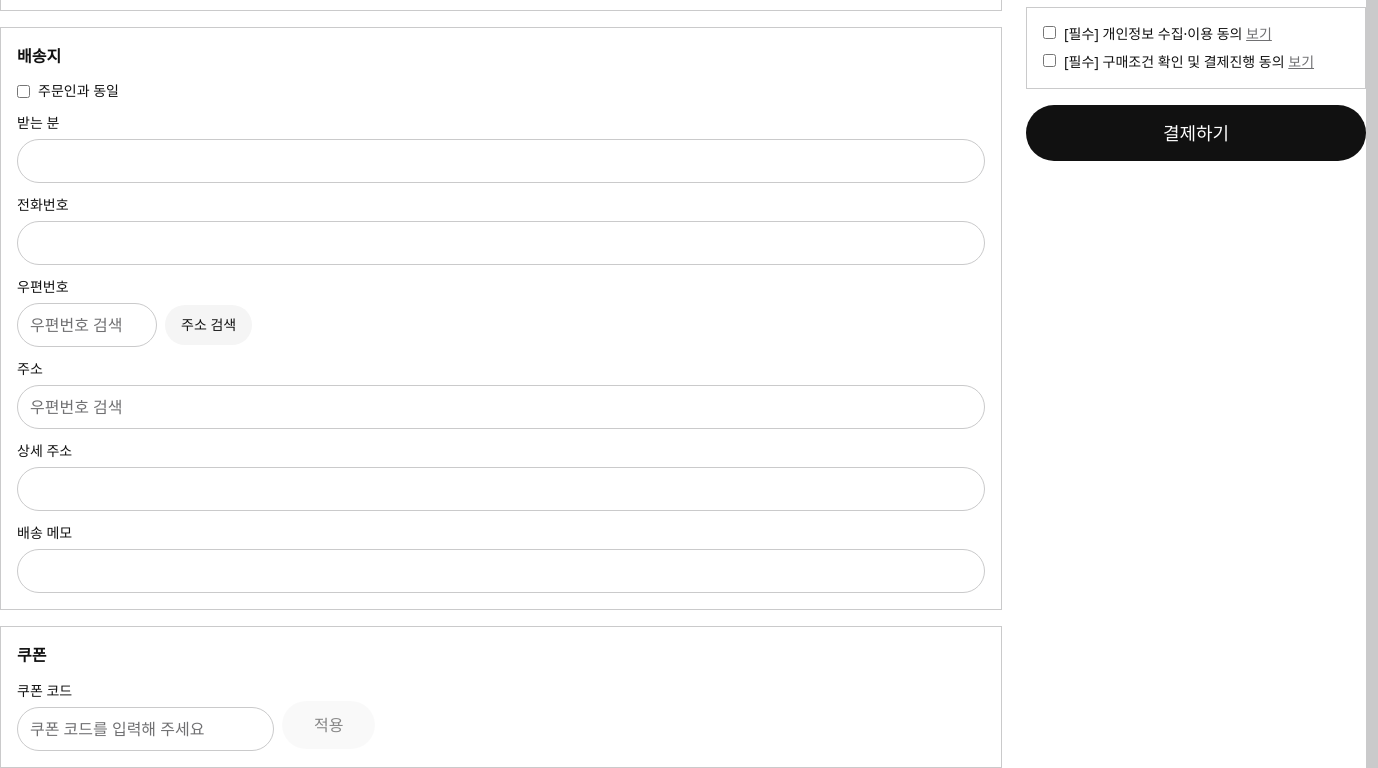
Test: <CheckoutClient> 쿠폰 (FS-X-04, ADR-026) › errorCode COUPON_ALREADY_USED → 한국어 안내
This screenshot has width=1378, height=768.
(page scrolled)
In the field with test id "coupon-input": (146, 729) [17,707,274,751], type "BADCODE"
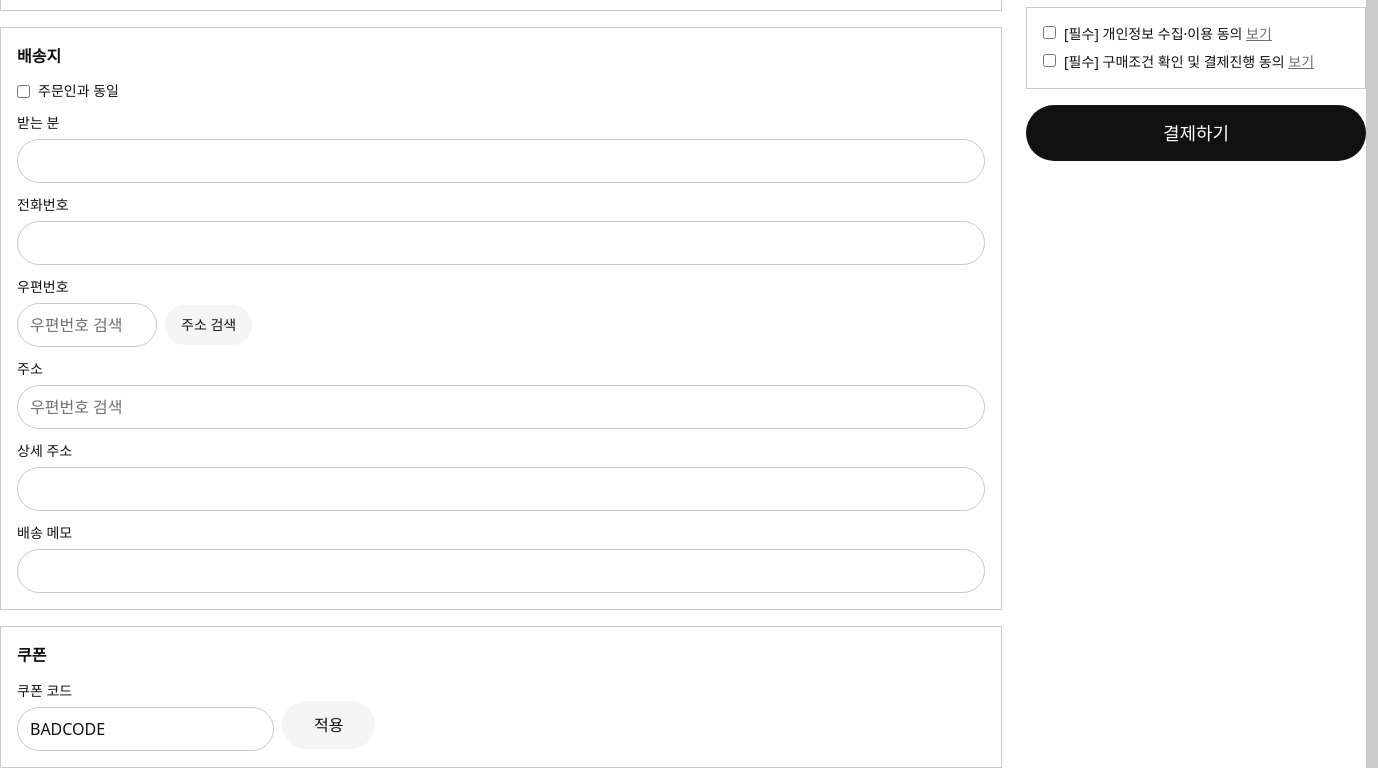
Click the button with test id "coupon-apply": (329, 725) [282,701,376,749]
(page scrolled)
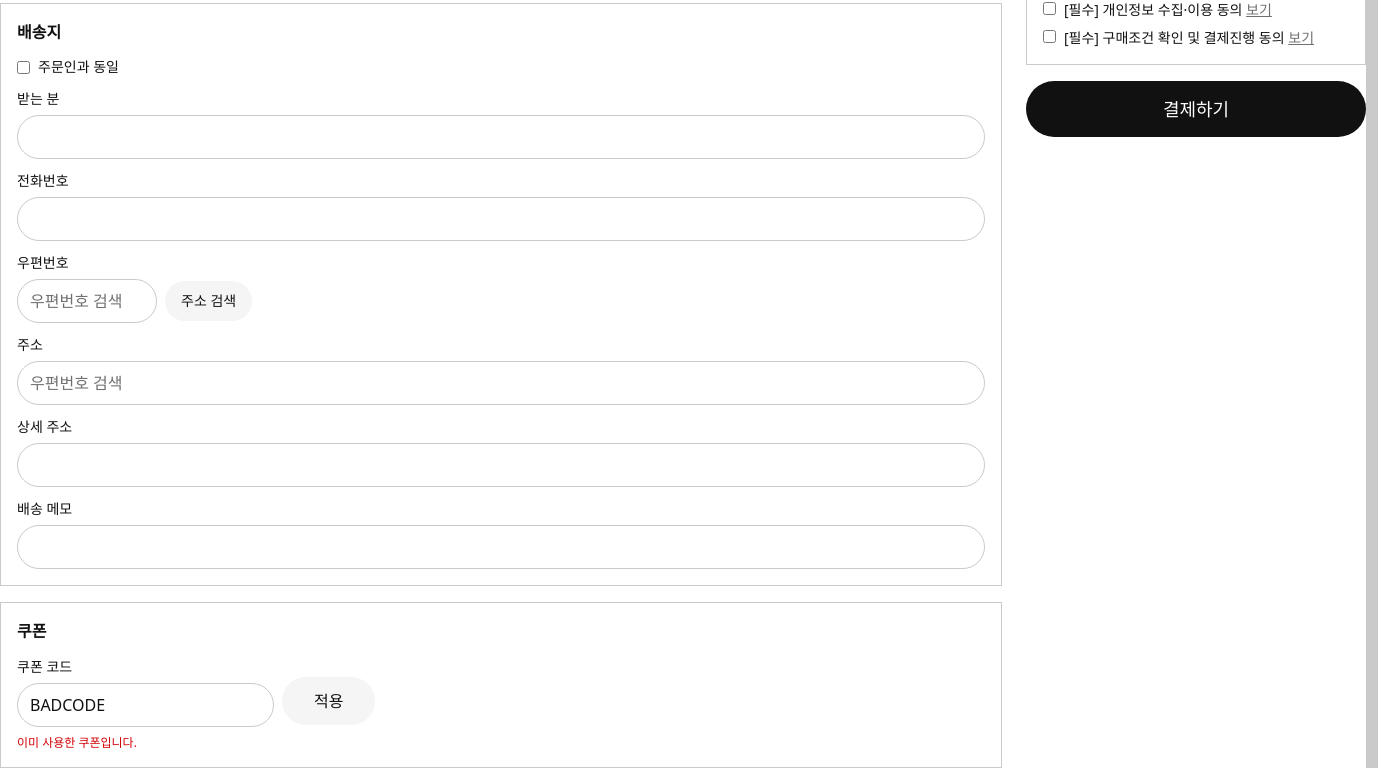
Expected: the message with test id "coupon-error" reads "이미 사용한 쿠폰입니다.", [17,734,137,751]
